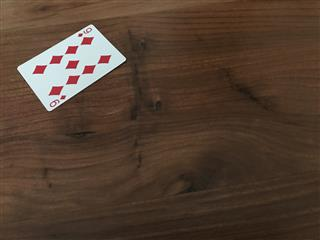NineOfDiamonds: (16, 22, 126, 111)
